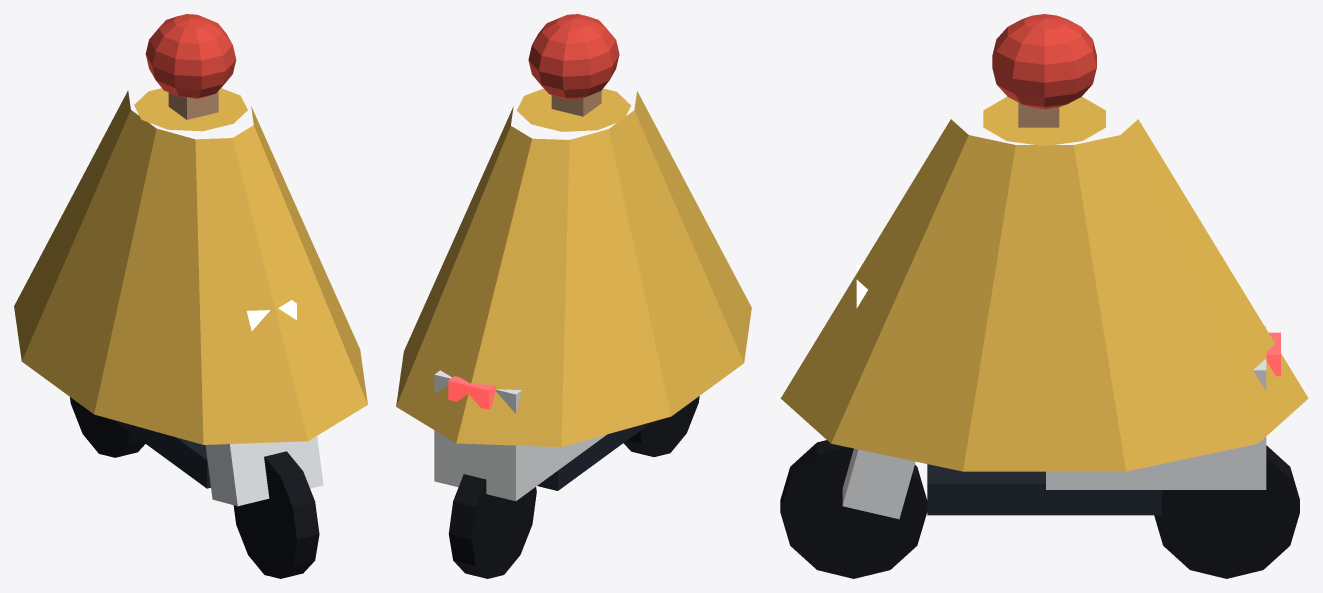
File: poncho_rider_yellow.glb
3 renders of one model, left to right at view 1: azimuth 30°, elevation 25°; view 2: azimuth 150°, elevation 25°; view 3: azimuth 270°, elevation 25°, orthographic. The views are drawn at different scales.
Visible parts, largest first — view 1: poncho_rider; view 2: poncho_rider; view 3: poncho_rider.
Part boxes in pixels (x1=…): poncho_rider: x1=14, y1=14, x2=367, y2=578; poncho_rider: x1=396, y1=14, x2=751, y2=578; poncho_rider: x1=780, y1=14, x2=1308, y2=578.
Size of the model in its own units: 1.18 by 2.08 by 1.8.
